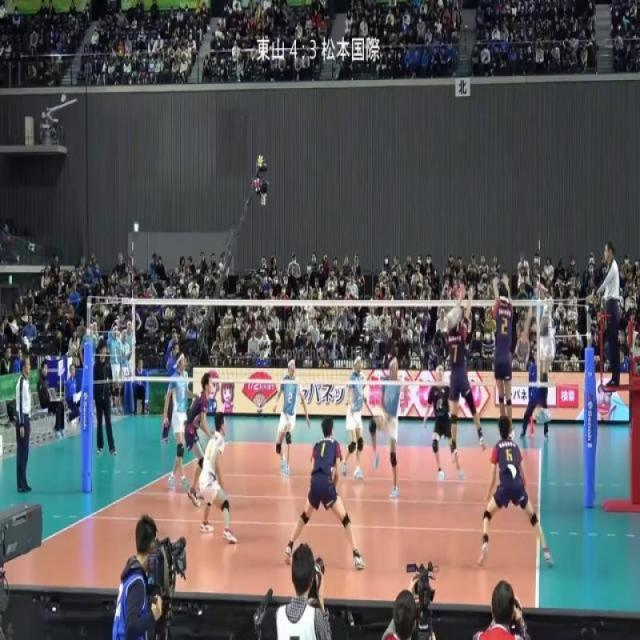volleyball: (444, 306, 463, 330)
